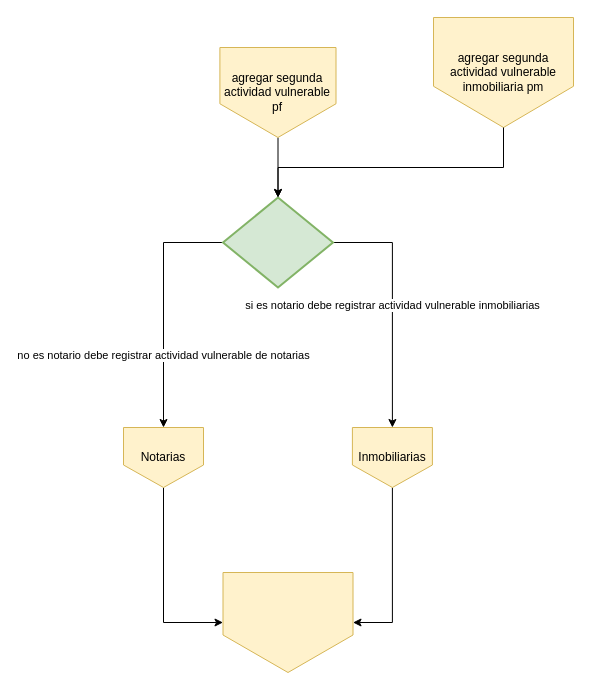
The diagram is 591 pixels wide and 690 high, and some of its shapes have lost their labels. The box of each missing label's shape, as (x1, y1, x2, y2) in pixels:
Continuar proceso de registro principal: (222, 572, 353, 672)
¿Es notario?: (222, 196, 334, 288)
